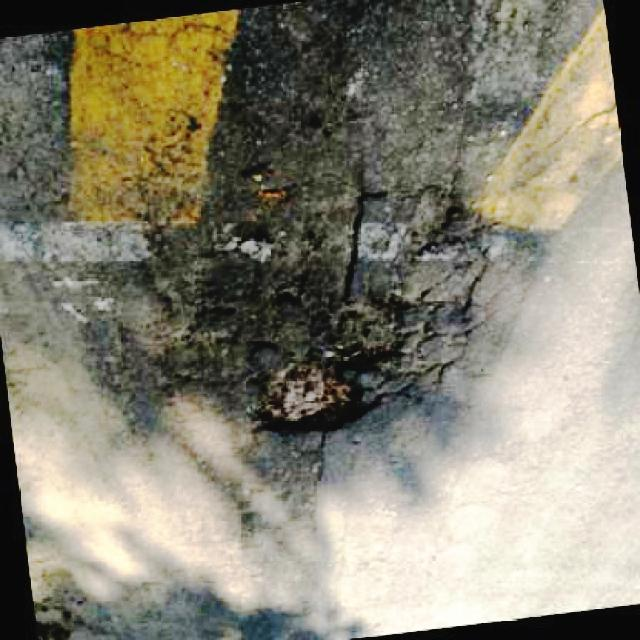pothole: (235, 207, 528, 438)
